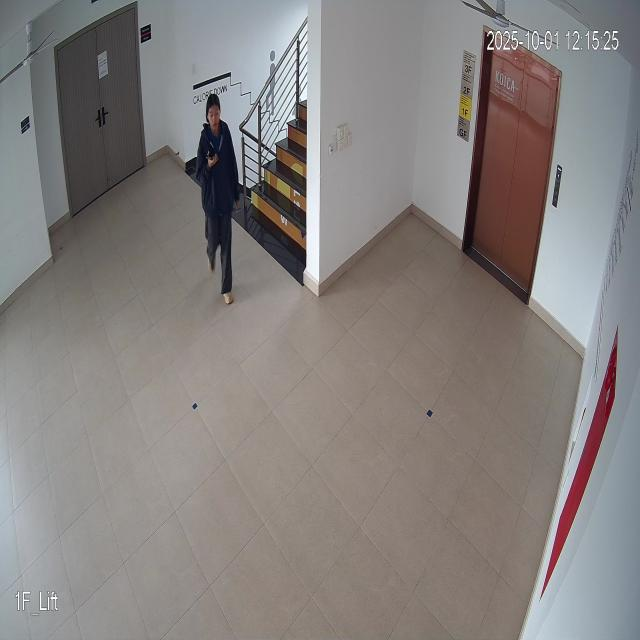face: (202, 90, 222, 134)
